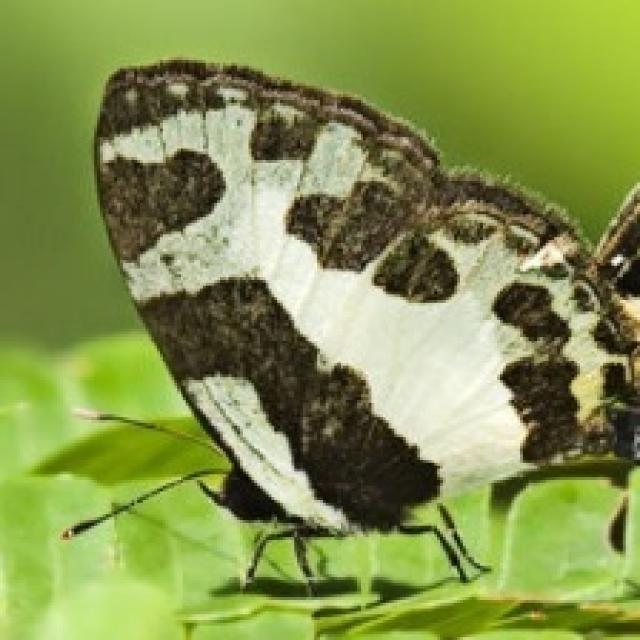butterfly: (57, 54, 637, 597)
